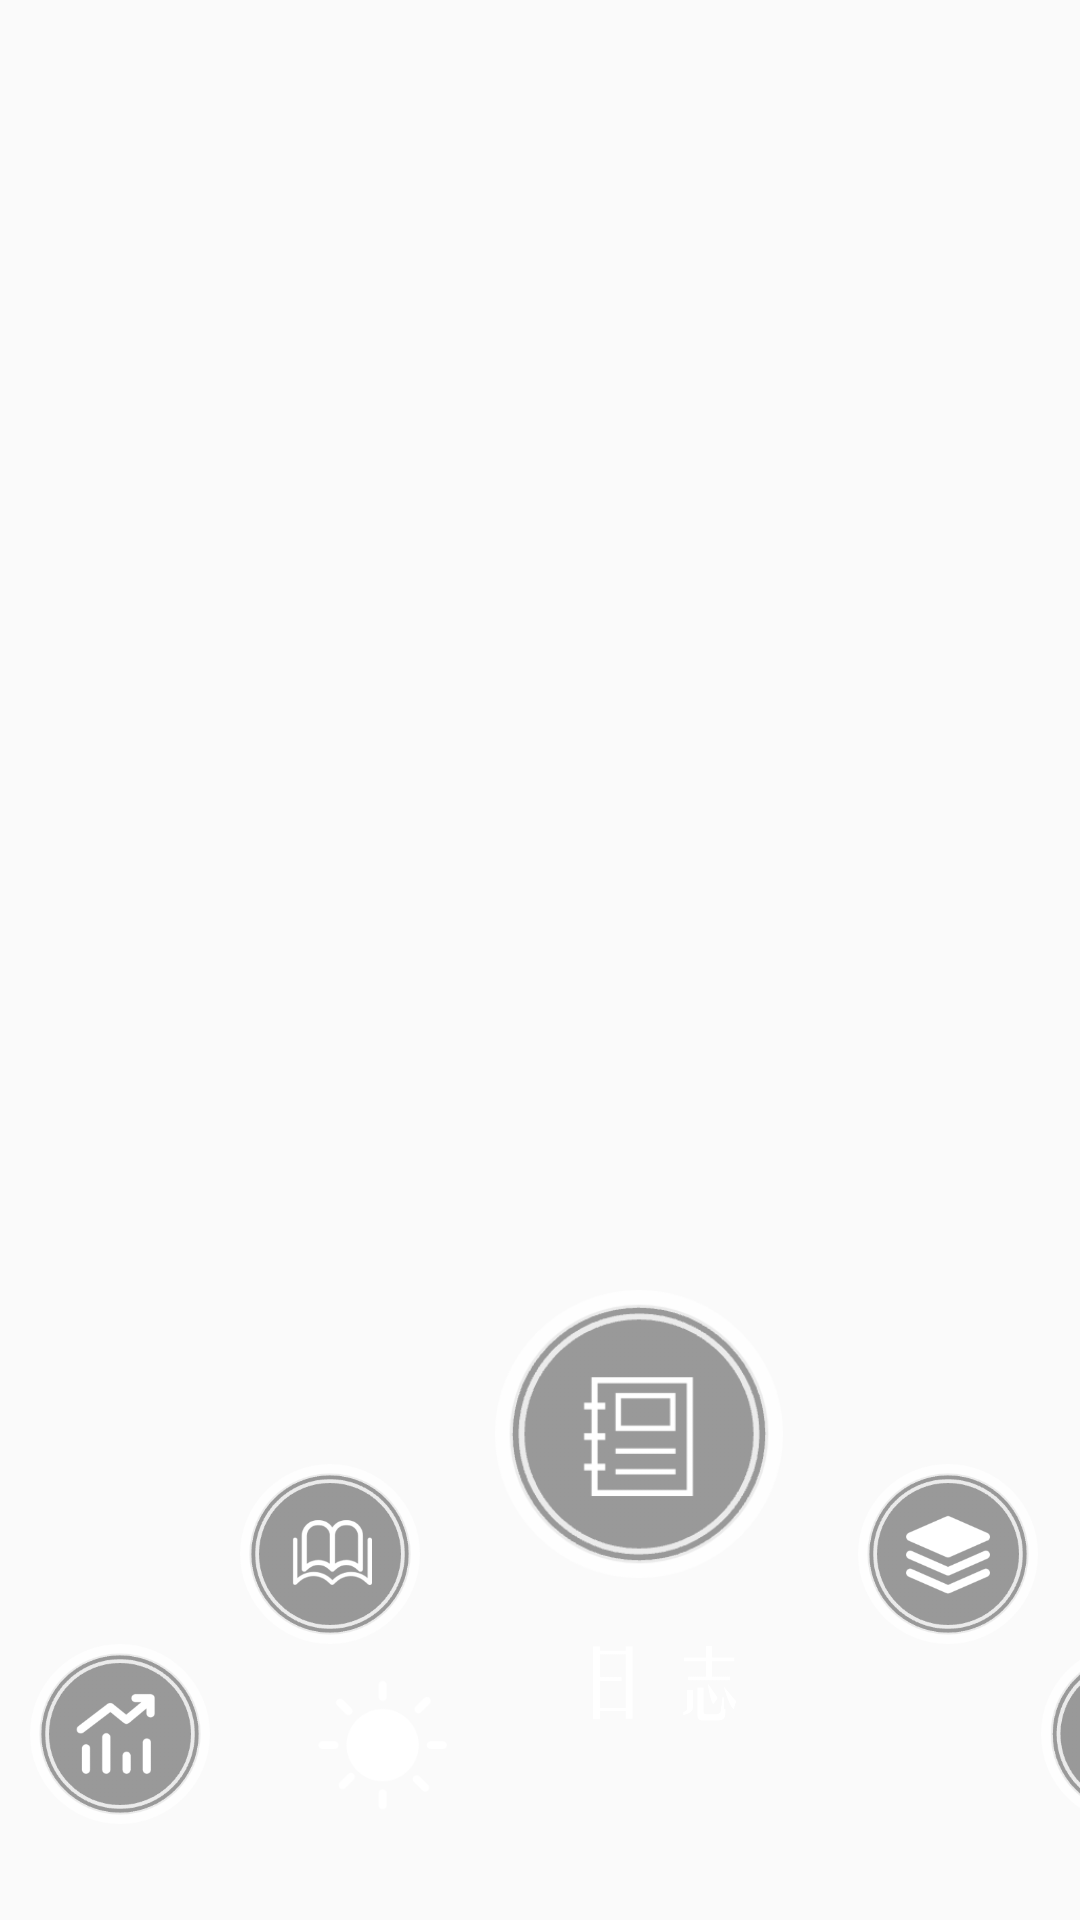

Icons on this 1080 x 1920 Android screen, each with the point to tap as point (x, y):
ALL: point (948, 1554)
ANALYSE: point (120, 1734)
DAIRY: point (639, 1434)
